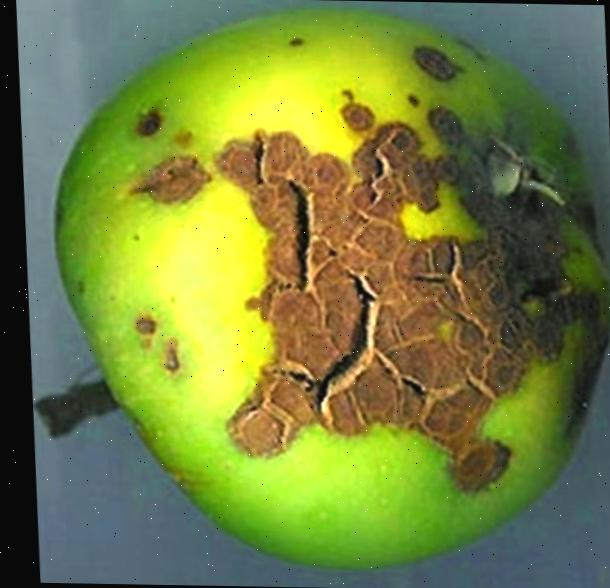SCAB: (36, 15, 610, 576)
